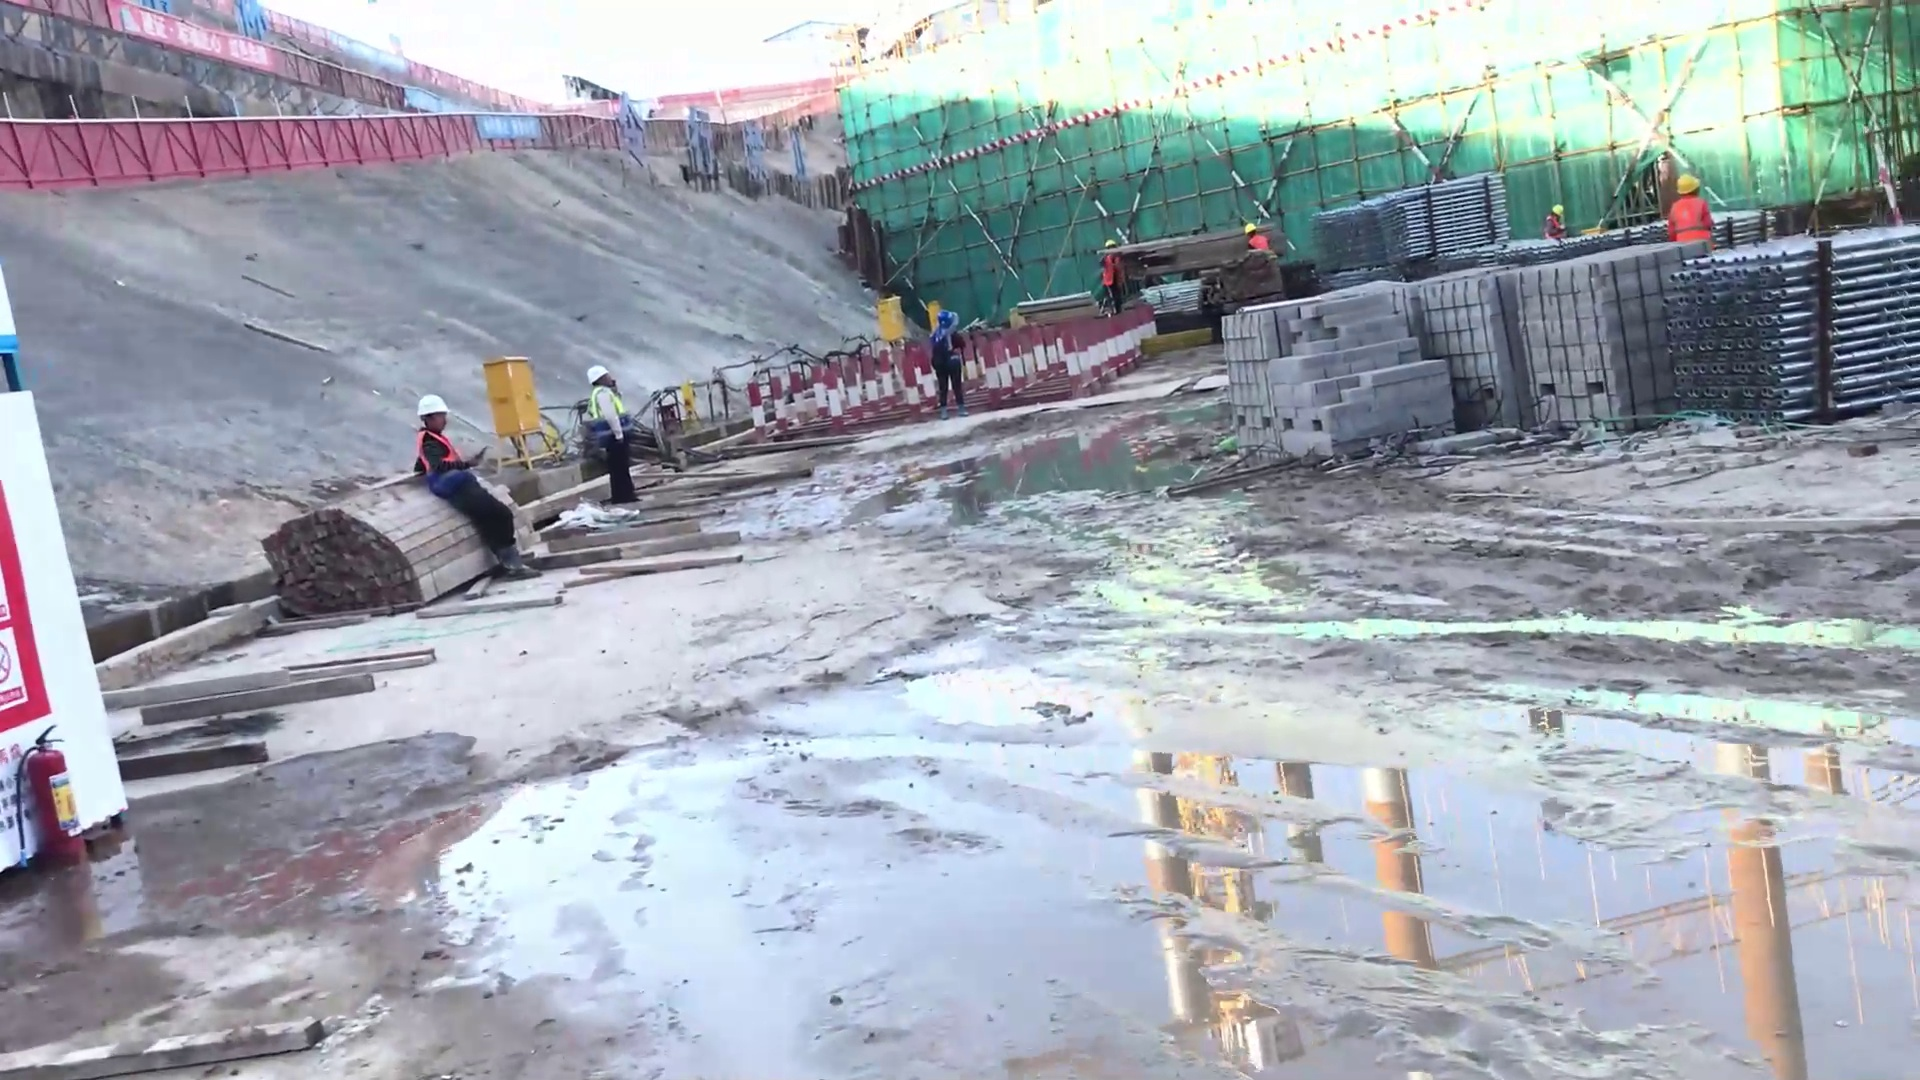brick: (1206, 279, 1662, 459)
ebox: (484, 359, 550, 442), (870, 292, 907, 345)
fence: (4, 85, 406, 192)
helmet: (579, 363, 626, 399), (410, 387, 451, 417), (1670, 164, 1700, 197), (931, 306, 958, 329), (1552, 202, 1566, 216), (1101, 237, 1116, 250), (1241, 224, 1255, 233)
person: (398, 389, 540, 583), (572, 363, 651, 515), (928, 305, 982, 418), (1666, 160, 1723, 253), (1092, 233, 1128, 310), (1240, 216, 1280, 256), (1535, 201, 1571, 244)
scaffold: (1666, 260, 1920, 451), (1317, 170, 1520, 259)
vest: (404, 438, 463, 481), (583, 401, 636, 439), (1674, 201, 1710, 239), (931, 336, 959, 371), (1543, 214, 1566, 239), (1245, 233, 1273, 250), (1103, 261, 1124, 284)
wood: (251, 516, 414, 635)
